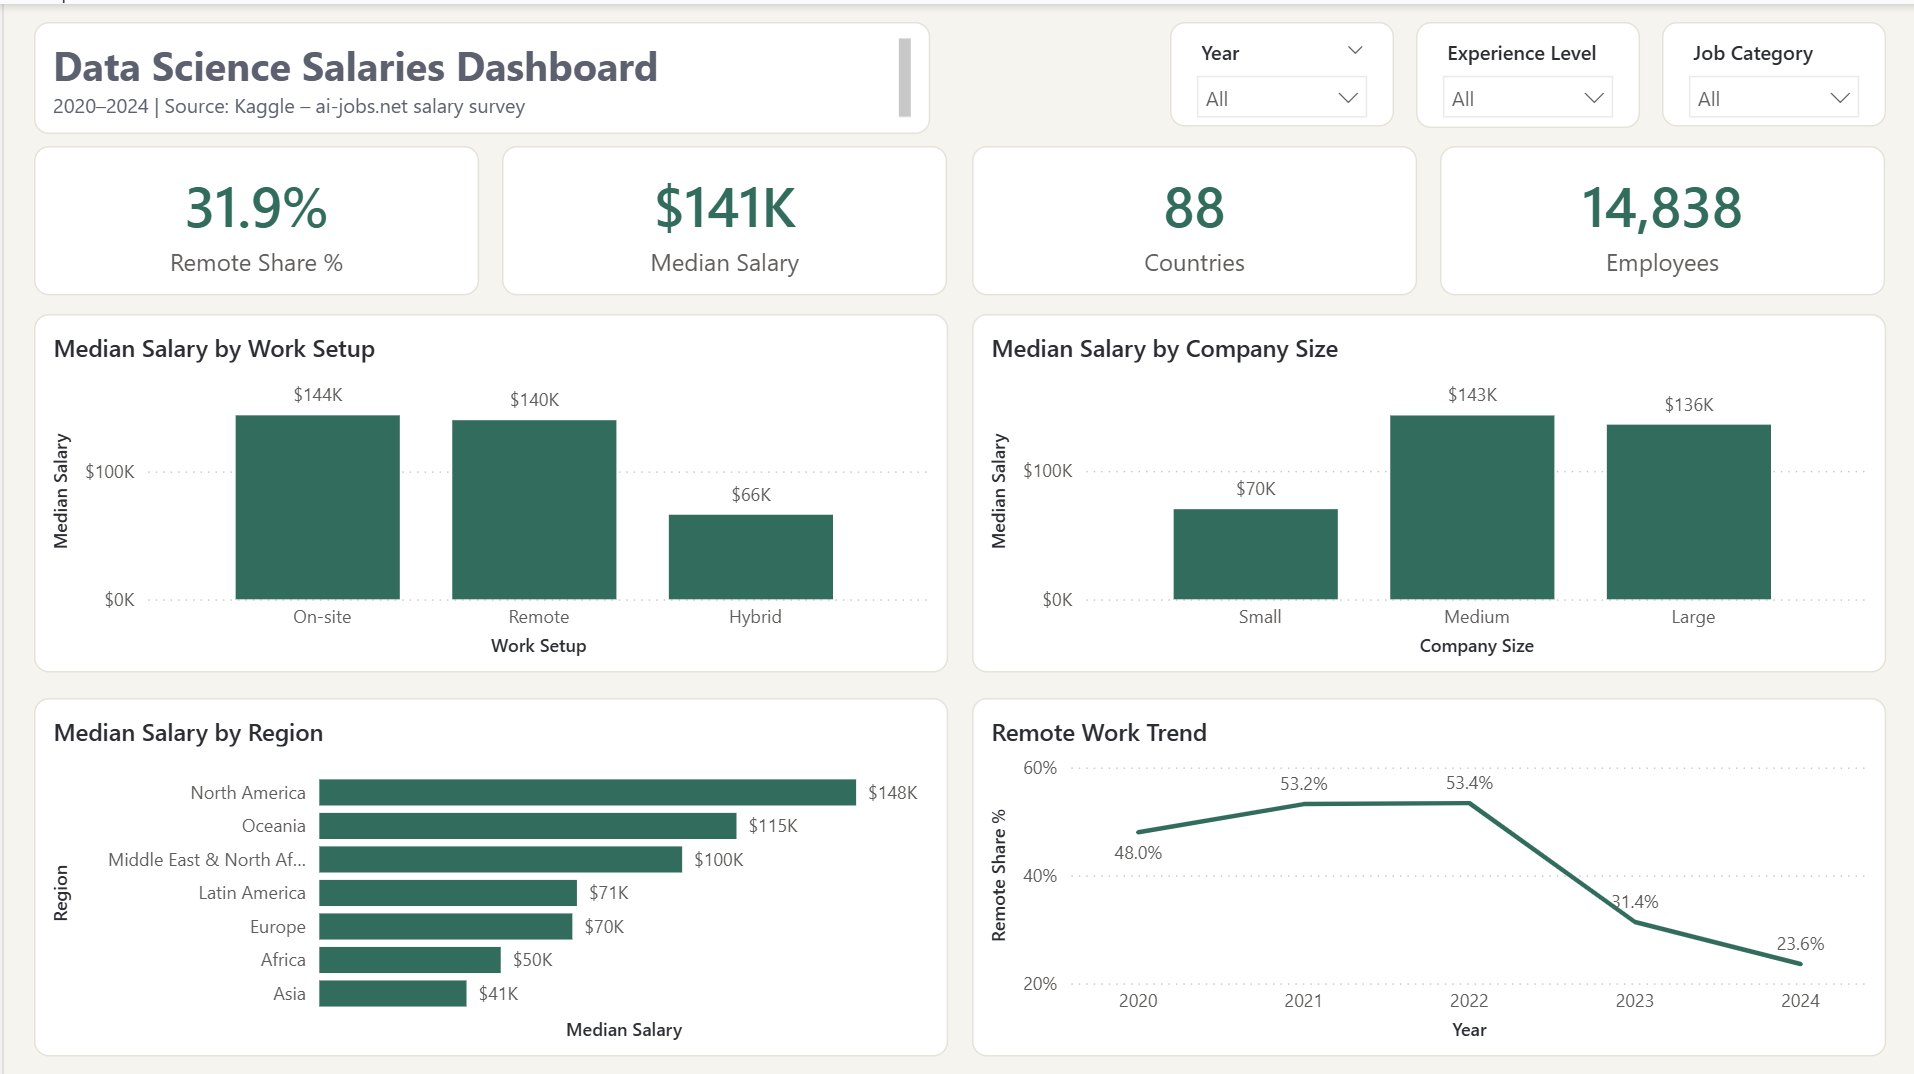

Layout of this report page (visuals, bound fields, positions):
{"tool":"powerbi","page":{"name":"Work Setup & Location","canvas":[1280,720],"ordinal":2},"visuals":[{"type":"textbox","box":[20,12,600,75],"z":0},{"type":"slicer","fields":{"Values":["Salaries.Year"]},"box":[780,12,150,70],"z":1000},{"type":"slicer","fields":{"Values":["Salaries.Experience Level"]},"box":[945,12,150,71],"z":2000},{"type":"slicer","fields":{"Values":["Salaries.Job Category"]},"box":[1110,12,150,70],"z":3000},{"type":"card","fields":{"Values":["Salaries.Remote Share %"]},"box":[20,95,298,100],"z":4000},{"type":"card","fields":{"Values":["Salaries.Employees"]},"box":[962,95,298,100],"z":5000},{"type":"card","fields":{"Values":["Salaries.Countries"]},"box":[648,95,298,100],"z":6000},{"type":"card","fields":{"Values":["Salaries.Median Salary"]},"box":[334,95,298,100],"z":7000},{"type":"clusteredColumnChart","title":"Median Salary by Work Setup","fields":{"Y":["Salaries.Median Salary"],"Category":["Salaries.Work Setup"]},"box":[20,208,612,240],"z":8000},{"type":"clusteredColumnChart","title":"Median Salary by Company Size","fields":{"Category":["Salaries.Company Size"],"Y":["Salaries.Median Salary"]},"box":[648,208,612,240],"z":9000},{"type":"clusteredBarChart","title":"Median Salary by Region","fields":{"Y":["Salaries.Median Salary"],"Category":["Salaries.Region"]},"box":[20,464,612,240],"z":10000},{"type":"lineChart","title":"Remote Work Trend","fields":{"Category":["Salaries.Year"],"Y":["Salaries.Remote Share %"]},"box":[648,464,612,240],"z":11000}]}

Visuals, with their boxes in screenshot pixels (x1, y1, x2, y2), scaled from the page's 1280x720 canvas onto the 1914x1074 screenshot:
textbox: x1=30, y1=18, x2=927, y2=130
slicer - Salaries.Year: x1=1166, y1=18, x2=1391, y2=122
slicer - Salaries.Experience Level: x1=1413, y1=18, x2=1637, y2=124
slicer - Salaries.Job Category: x1=1660, y1=18, x2=1884, y2=122
card - Salaries.Remote Share %: x1=30, y1=142, x2=476, y2=291
card - Salaries.Employees: x1=1438, y1=142, x2=1884, y2=291
card - Salaries.Countries: x1=969, y1=142, x2=1415, y2=291
card - Salaries.Median Salary: x1=499, y1=142, x2=945, y2=291
"Median Salary by Work Setup" clusteredColumnChart: x1=30, y1=310, x2=945, y2=668
"Median Salary by Company Size" clusteredColumnChart: x1=969, y1=310, x2=1884, y2=668
"Median Salary by Region" clusteredBarChart: x1=30, y1=692, x2=945, y2=1050
"Remote Work Trend" lineChart: x1=969, y1=692, x2=1884, y2=1050
